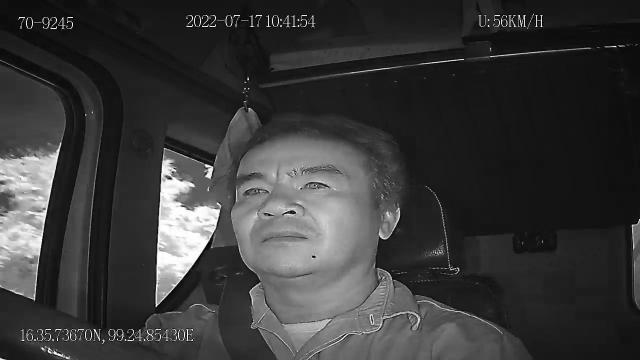SafeDriving: (294, 170, 342, 197), (236, 178, 274, 204)
Seatbelt: (217, 272, 280, 360)
